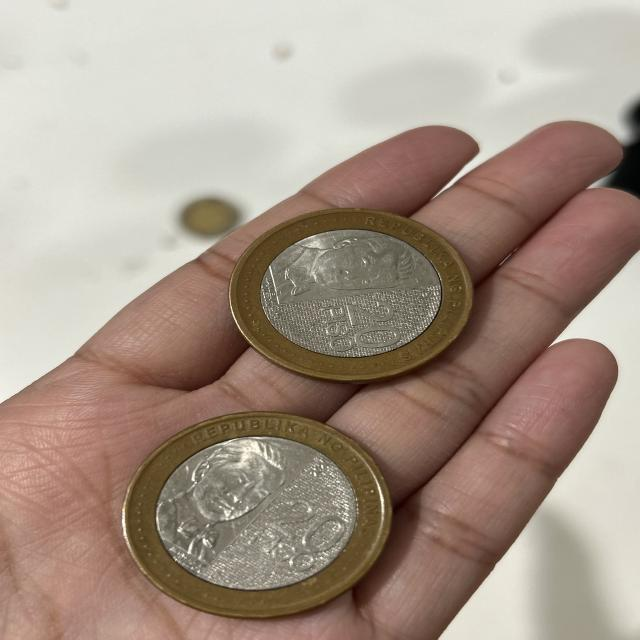20_New_Front: (246, 494, 352, 577), (313, 302, 411, 356)
